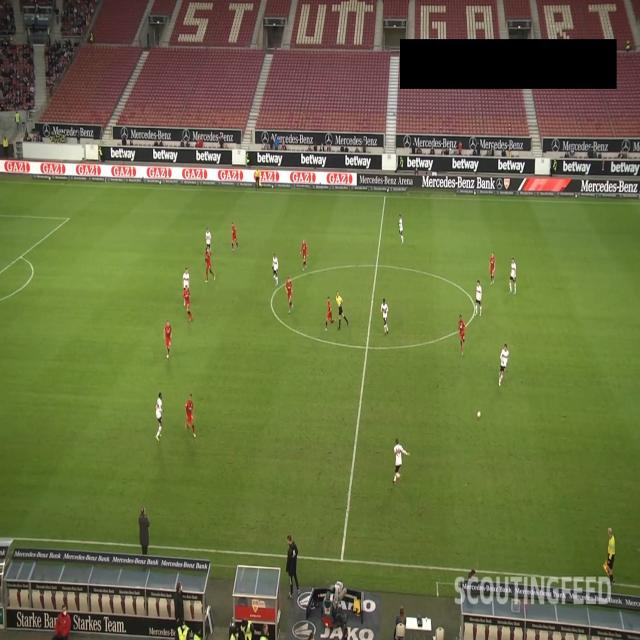ball: (476, 410, 482, 420)
